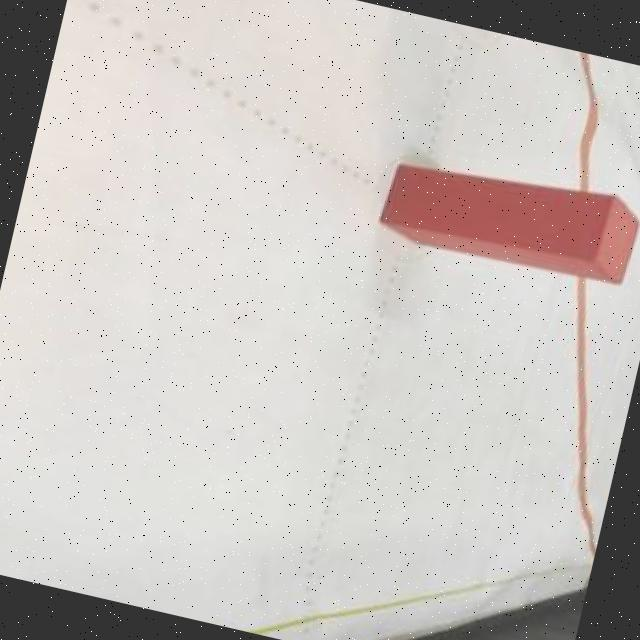redbox: (374, 143, 640, 292)
